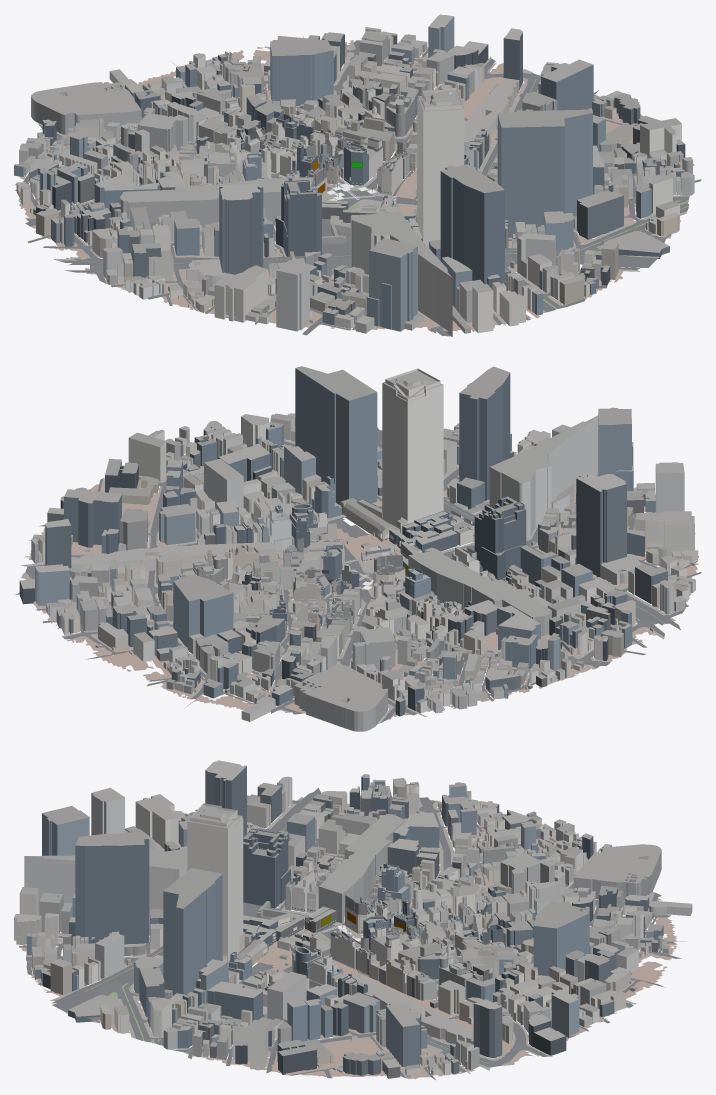
File: shibuya.glb
The picture shows the model from 3 angles, top to bottom: view 1: azimuth 30°, elevation 25°; view 2: azimuth 150°, elevation 25°; view 3: azimuth 270°, elevation 25°; orthographic projection. The views are drawn at different scales.
Parts seen in each view (by area): view 1: BldgFar_Back, BldgFar_Far, BldgFar, BldgNear, BldgNear_Back, Ground_Back, Ground_Far, Ground, Terrain_Back, Terrain_Far, Terrain; view 2: BldgFar_Back, BldgFar_Far, BldgFar, BldgNear_Back, BldgNear, Terrain_Far, Ground_Far, Ground_Back, Ground, Terrain_Back; view 3: BldgFar_Back, BldgFar_Far, BldgFar, BldgNear, BldgNear_Back, Ground_Back, Terrain_Far, Ground_Far, Terrain_Back, Ground, Terrain.
Boxes of the visible parts, box(x1,y1,x2,y2) form: BldgFar_Back: box(103, 109, 694, 336); BldgFar_Far: box(14, 14, 660, 259); BldgFar: box(107, 40, 540, 244); BldgNear: box(190, 87, 486, 229); BldgNear_Back: box(264, 87, 497, 256); Ground_Back: box(77, 164, 701, 336); Ground_Far: box(19, 36, 623, 272); Ground: box(139, 91, 497, 245); Terrain_Back: box(88, 141, 681, 332); Terrain_Far: box(15, 43, 643, 270); Terrain: box(150, 98, 497, 242); BldgFar_Back: box(109, 366, 698, 614); BldgFar_Far: box(19, 459, 654, 731); BldgFar: box(115, 486, 578, 667); BldgNear_Back: box(246, 368, 531, 585); BldgNear: box(178, 508, 516, 644); Terrain_Far: box(25, 486, 667, 716); Ground_Far: box(15, 479, 680, 723); Ground_Back: box(100, 427, 701, 624); Ground: box(145, 528, 494, 667); Terrain_Back: box(94, 441, 698, 614); BldgFar_Back: box(14, 760, 309, 1074); BldgFar_Far: box(283, 774, 692, 1078); BldgFar: box(287, 813, 581, 1033); BldgNear: box(297, 863, 504, 1000); BldgNear_Back: box(187, 803, 310, 990); Ground_Back: box(19, 794, 309, 1075); Terrain_Far: box(308, 796, 676, 1079); Ground_Far: box(290, 788, 686, 1080); Terrain_Back: box(21, 803, 309, 1075); Ground: box(304, 841, 543, 1036); Terrain: box(308, 846, 545, 1035).
Bounding box in the file's own units: 994 × 233 × 1019.
